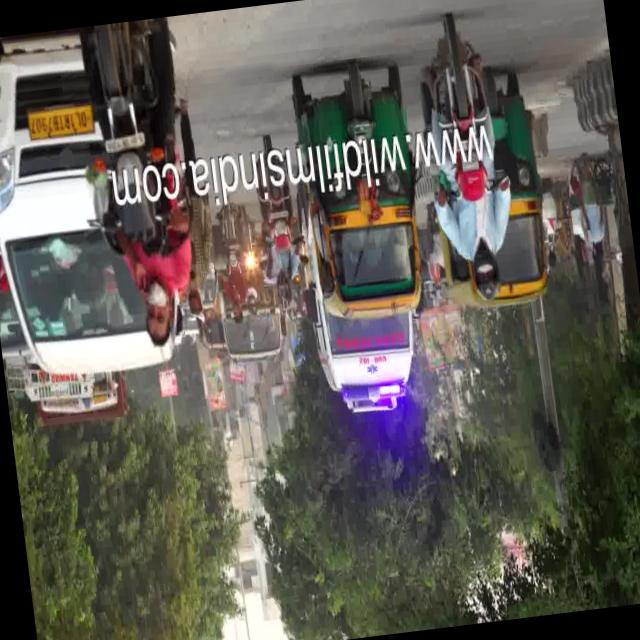ambulance: (308, 316, 445, 430)
